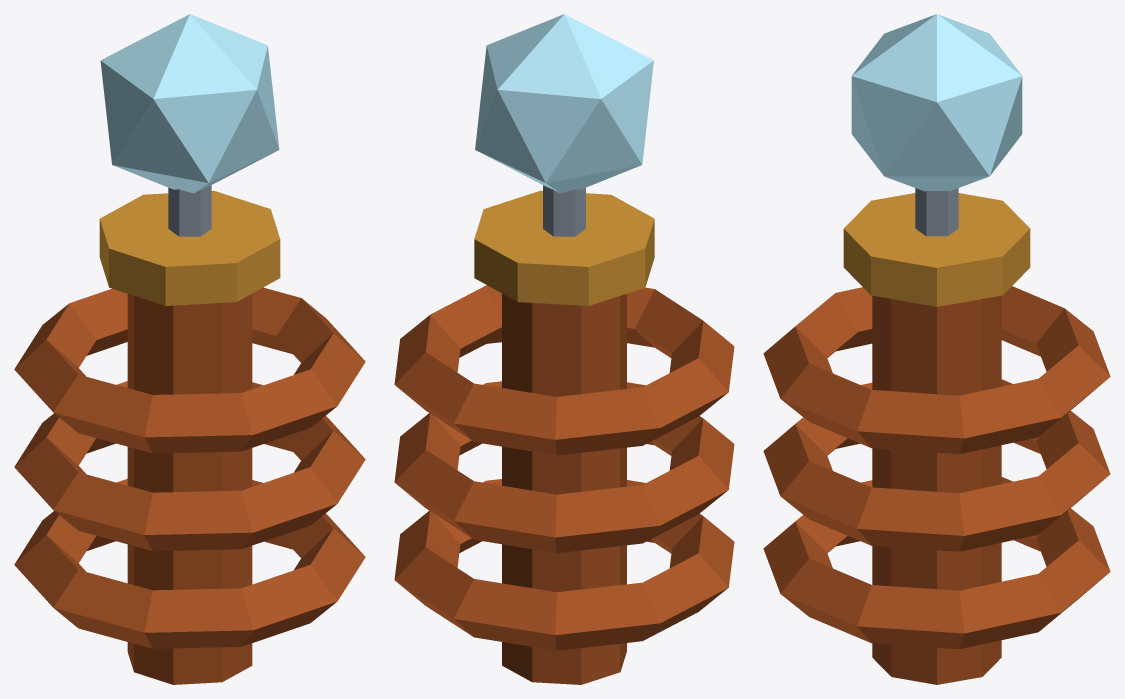
The model's file is TeslaDefault.obj.
3 renders of one model, left to right at view 1: azimuth 30°, elevation 25°; view 2: azimuth 150°, elevation 25°; view 3: azimuth 270°, elevation 25°, orthographic.
Visible parts, largest first — view 1: TeslaDefault; view 2: TeslaDefault; view 3: TeslaDefault.
Boxes of the visible parts, x1=… form: TeslaDefault: x1=14, y1=14, x2=365, y2=684; TeslaDefault: x1=394, y1=14, x2=734, y2=684; TeslaDefault: x1=763, y1=14, x2=1110, y2=684.
Bounding box in the file's own units: 0.484 × 0.99 × 0.484.
